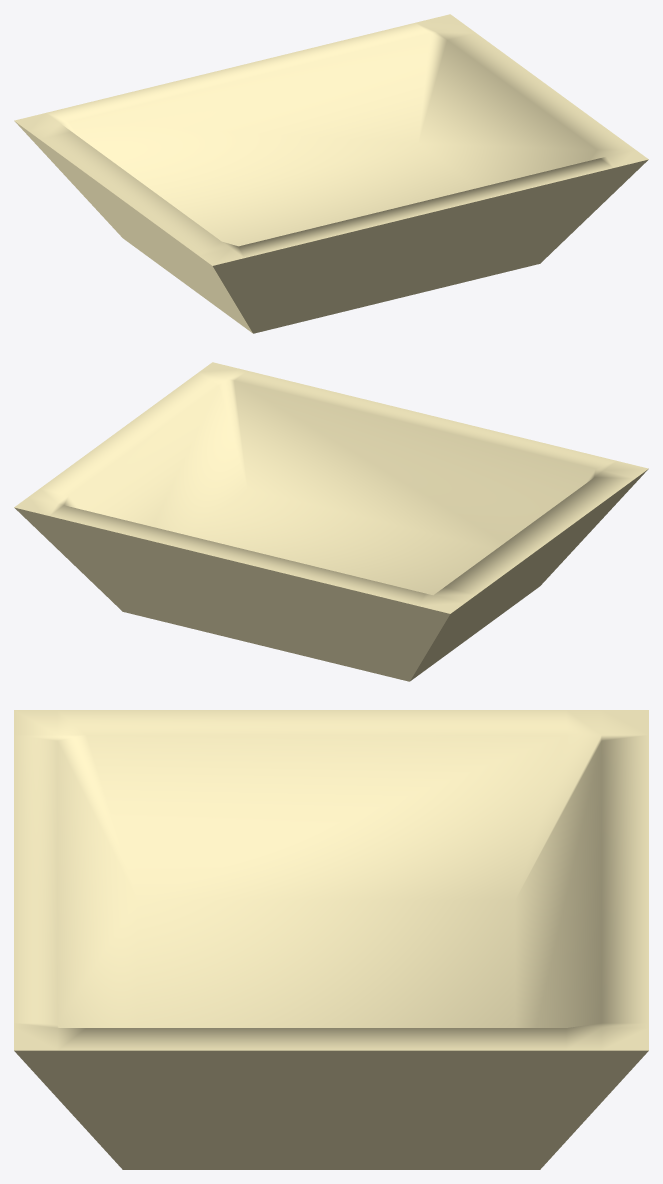
File: FruitBasket.fbx
3 renders of one model, top to bottom at view 1: azimuth 30°, elevation 25°; view 2: azimuth 150°, elevation 25°; view 3: azimuth 270°, elevation 25°, orthographic. The views are drawn at different scales.
Visible parts, largest first — view 1: pCube1; view 2: pCube1; view 3: pCube1.
Boxes of the visible parts, left/top/right/bottom form: pCube1: left=14, top=14, right=648, bottom=333; pCube1: left=14, top=362, right=648, bottom=681; pCube1: left=14, top=710, right=648, bottom=1169.
Size of the model in its own units: 29.21 by 7.1 by 23.01.
